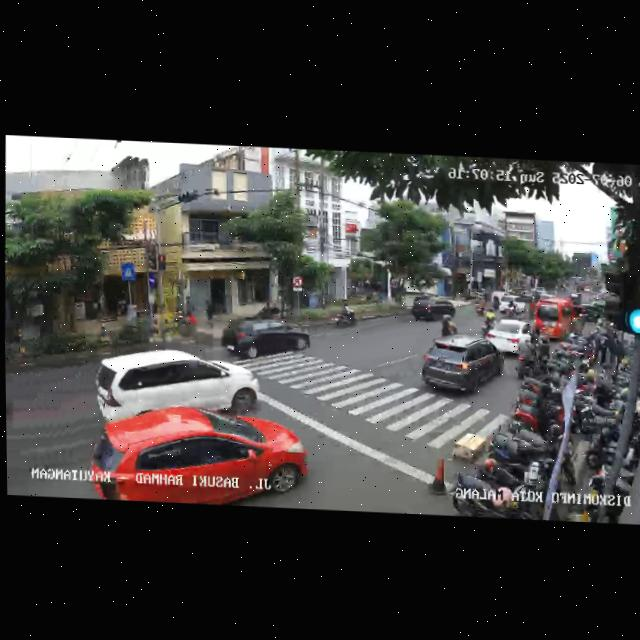car: (88, 402, 308, 509), (93, 345, 261, 430), (418, 334, 504, 398), (222, 313, 312, 368), (532, 295, 582, 342), (480, 318, 533, 356), (411, 294, 455, 325), (499, 293, 523, 316)
motorcycle: (332, 299, 360, 329), (438, 310, 455, 336), (481, 309, 492, 336)
